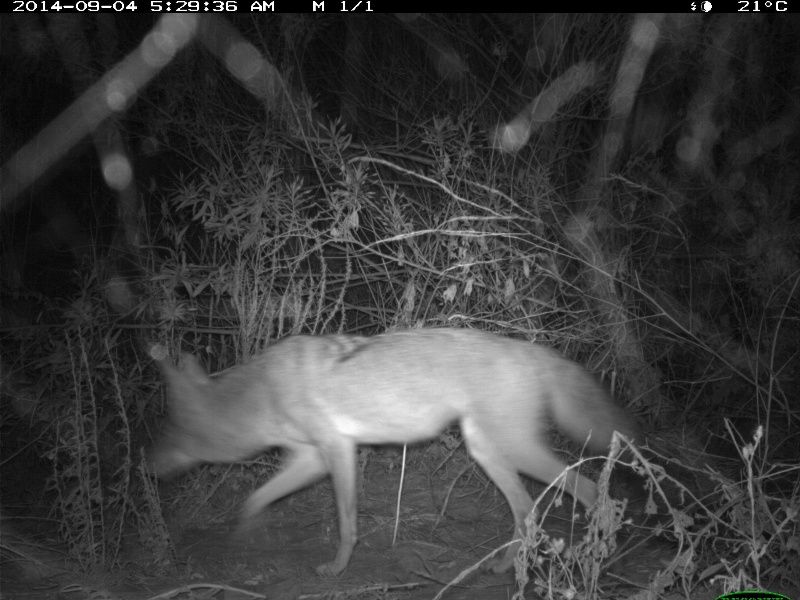coyote: (143, 324, 654, 577)
